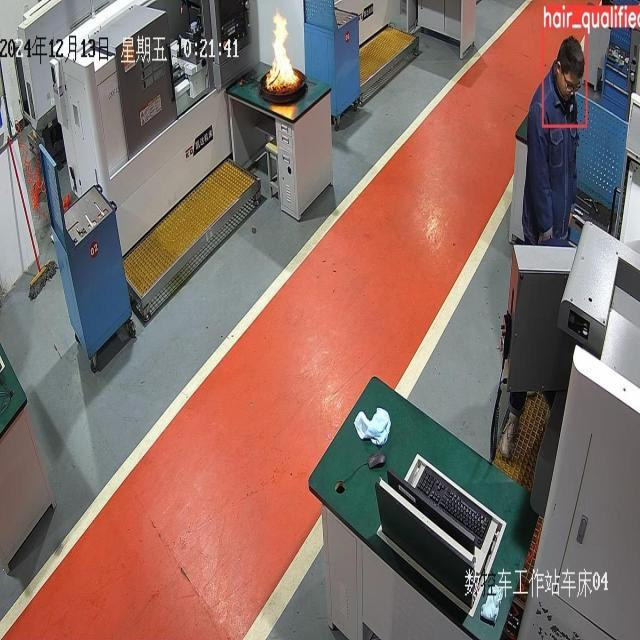smoke: (263, 6, 301, 94), (62, 191, 72, 213)
